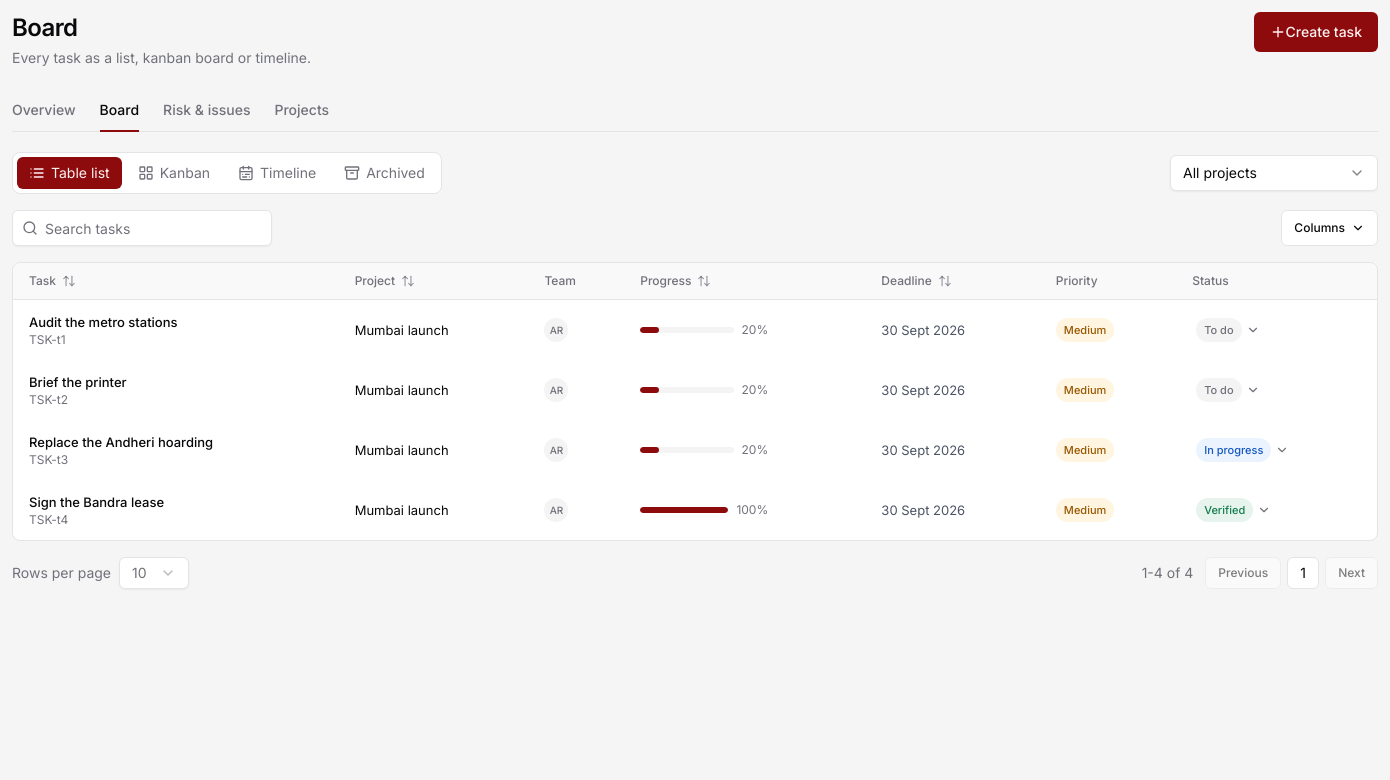
the task board › asks for the project on the query and reads the archive only when its tab opens
The width and height of the screenshot is (1390, 780).
What coordinates should you click on to do the following:
click the tab "Kanban"
I would click on:
 (174, 173)
Its box is left=126, top=157, right=222, bottom=189.
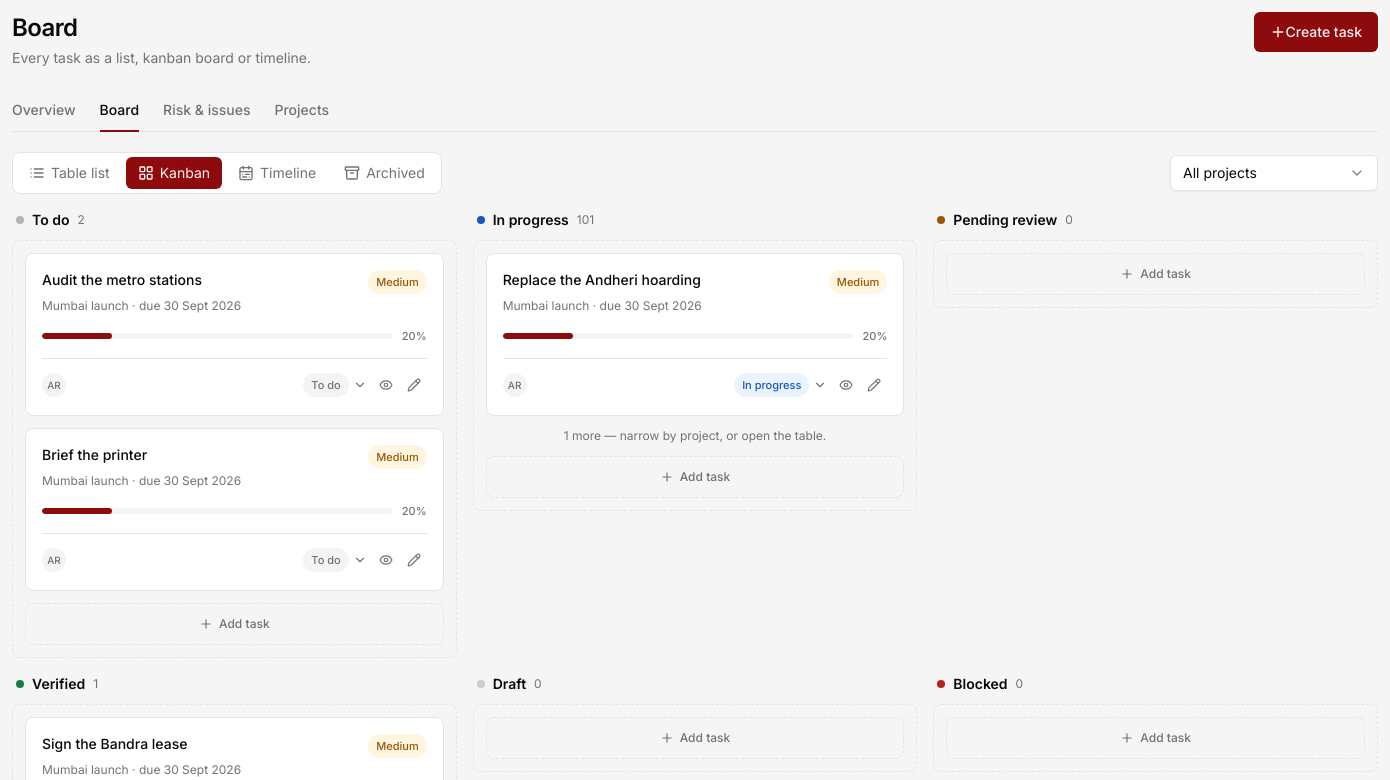
Result: the element with test id "board-column-TODO" is shown at left=12, top=210, right=457, bottom=658
What coordinates should you click on to do the following:
click the tab "Archived"
I would click on:
 (385, 173)
Its box is left=332, top=157, right=437, bottom=189.
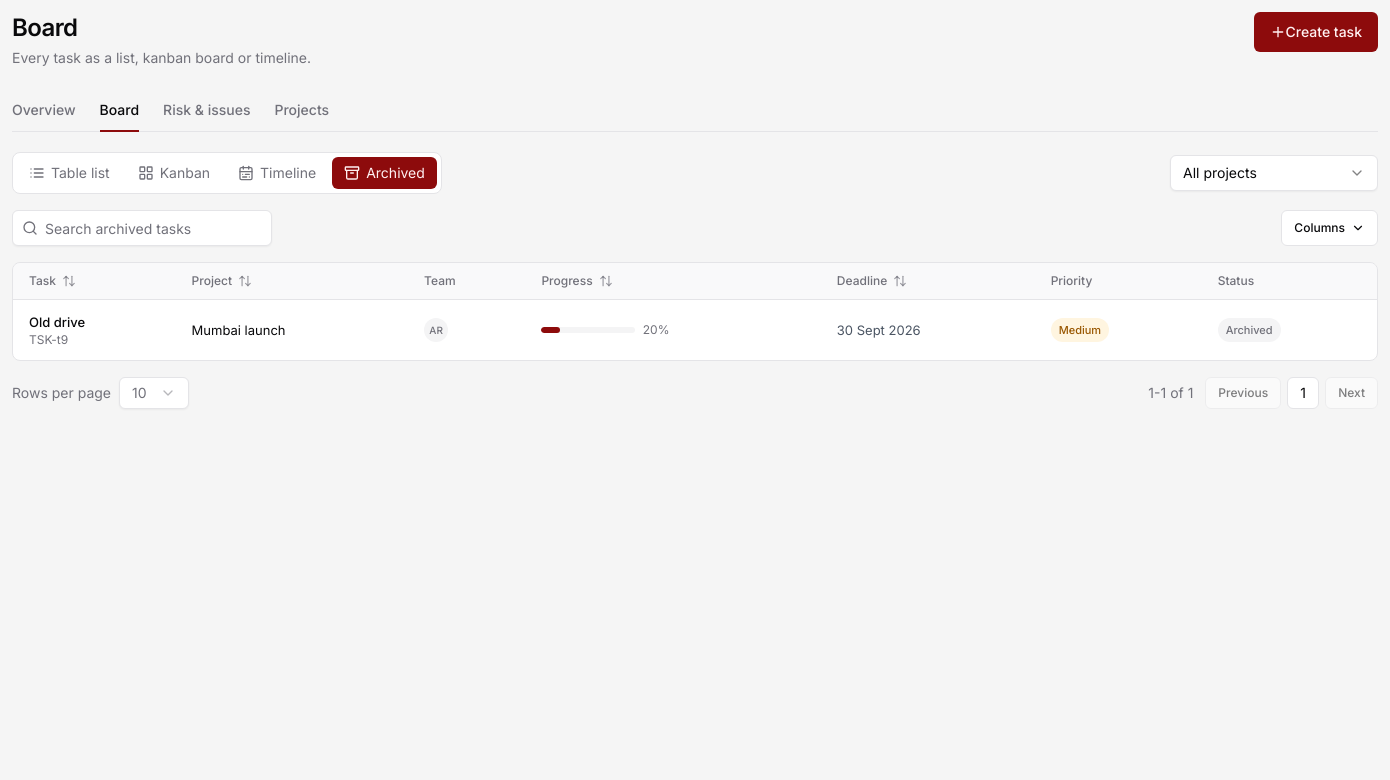
Result: the text "Old drive" is shown at left=29, top=314, right=85, bottom=330
